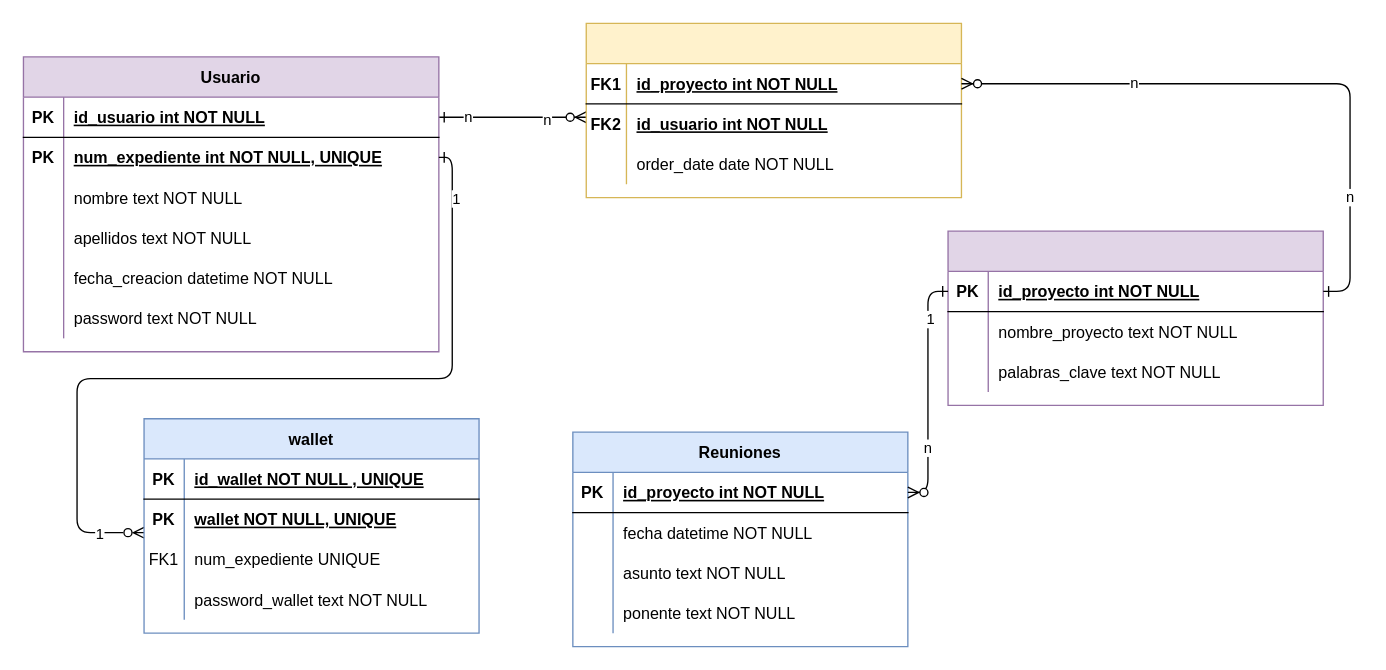
Some shapes in this 1386 by 670 pixel diagram are drawn without their labels. The box of each missing label's shape, as (x1, y1, x2, y2) in pixels:
Proyectos: (947, 230, 1323, 405)
Proyectos_usuarios: (585, 22, 961, 198)
